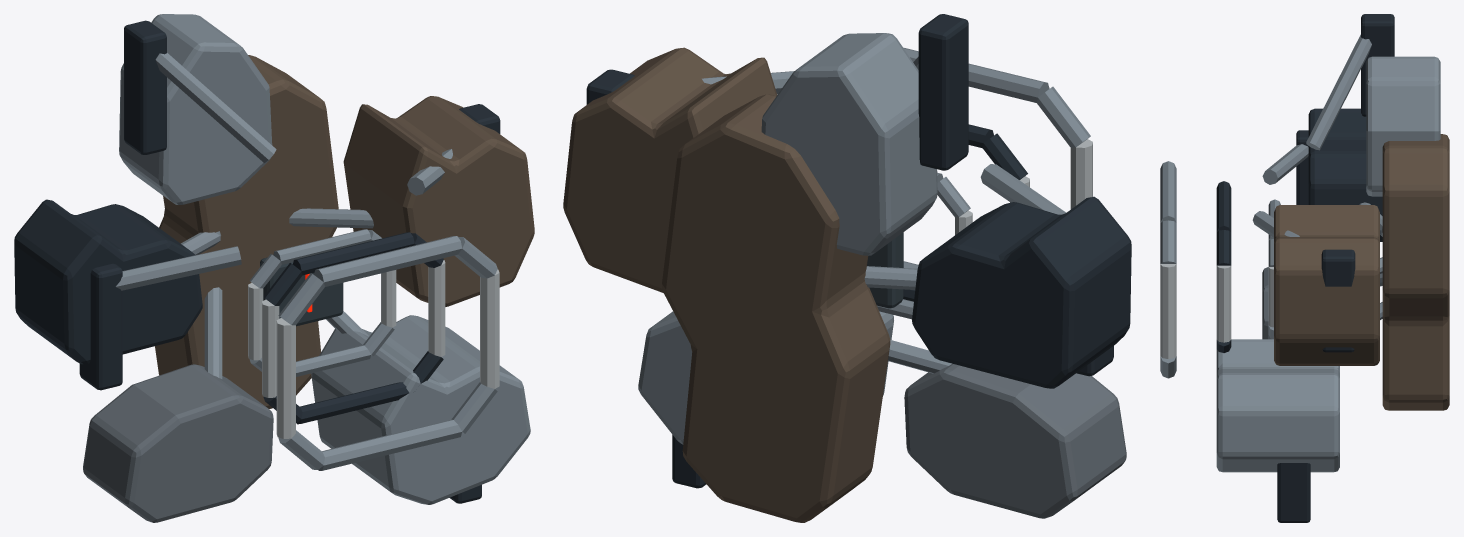
File: orbit-build-balanced.glb
3 renders of one model, left to right at view 1: azimuth 30°, elevation 25°; view 2: azimuth 150°, elevation 25°; view 3: azimuth 270°, elevation 25°, orthographic. The views are drawn at different scales.
Visible parts, largest first — view 1: Build_MID_District_EAST, Build_MID_Core, Build_MID_District_SOUTH_EAST, Build_MID_District_SOUTH_WEST, Build_MID_District_WEST, Build_MID_District_NORTH, Build_MID_Gantry_2, Build_MID_Gantry_0, Build_MID_ForgeTunnelFrameBeam_0_04, Build_MID_GantryBridge_2, Build_MID_ForgeTunnelFrameBeam_0_00, Build_MID_GantryBridge_0 (+20 smaller); view 2: Build_MID_Core, Build_MID_District_WEST, Build_MID_District_SOUTH_WEST, Build_MID_District_EAST, Build_MID_District_NORTH, Build_MID_Gantry_2, Build_MID_District_SOUTH_EAST, Build_MID_ForgeTunnelFrameBeam_0_04, Build_MID_GantryBridge_0, Build_MID_ForgeTunnelFrameBeam_0_05, Build_MID_ForgeDieBack, Build_MID_ForgeTunnelFrameBeam_0_06 (+6 smaller); view 3: Build_MID_Core, Build_MID_District_EAST, Build_MID_District_SOUTH_EAST, Build_MID_District_NORTH, Build_MID_District_WEST, Build_MID_Gantry_3, Build_MID_GantryBridge_2, Build_MID_Gantry_2, Build_MID_ForgeTunnelFrameBeam_0_02, Build_MID_Gantry_1, Build_MID_ForgeTunnelFrameBeam_1_02, Build_MID_ForgeTunnelFrameBeam_0_04 (+8 smaller).
Part boxes in pixels (<box>): Build_MID_District_EAST: <box>343,96,534,306</box>; Build_MID_Core: <box>155,55,338,409</box>; Build_MID_District_SOUTH_EAST: <box>311,315,530,504</box>; Build_MID_District_SOUTH_WEST: <box>83,364,273,522</box>; Build_MID_District_WEST: <box>14,199,202,364</box>; Build_MID_District_NORTH: <box>119,14,272,204</box>; Build_MID_Gantry_2: <box>124,20,166,154</box>; Build_MID_Gantry_0: <box>79,263,122,390</box>; Build_MID_ForgeTunnelFrameBeam_0_04: <box>314,236,462,286</box>; Build_MID_GantryBridge_2: <box>155,53,276,162</box>; Build_MID_ForgeTunnelFrameBeam_0_00: <box>318,419,461,470</box>; Build_MID_GantryBridge_0: <box>116,246,241,290</box>; Build_MID_Core: <box>662,94,890,522</box>; Build_MID_District_WEST: <box>912,196,1131,388</box>; Build_MID_District_SOUTH_WEST: <box>904,363,1126,518</box>; Build_MID_District_EAST: <box>563,47,777,292</box>; Build_MID_District_NORTH: <box>761,33,937,255</box>; Build_MID_Gantry_2: <box>918,14,968,170</box>; Build_MID_District_SOUTH_EAST: <box>638,311,893,444</box>; Build_MID_ForgeTunnelFrameBeam_0_04: <box>903,47,1049,102</box>; Build_MID_GantryBridge_0: <box>980,164,1066,214</box>; Build_MID_ForgeTunnelFrameBeam_0_05: <box>1037,86,1090,147</box>; Build_MID_ForgeDieBack: <box>867,232,903,308</box>; Build_MID_ForgeTunnelFrameBeam_0_06: <box>1070,139,1092,209</box>; Build_MID_Core: <box>1382,134,1449,410</box>; Build_MID_District_EAST: <box>1274,205,1379,365</box>; Build_MID_District_SOUTH_EAST: <box>1216,339,1339,472</box>; Build_MID_District_NORTH: <box>1366,56,1440,196</box>; Build_MID_District_WEST: <box>1308,108,1382,241</box>; Build_MID_Gantry_3: <box>1277,463,1310,522</box>; Build_MID_GantryBridge_2: <box>1306,34,1371,150</box>; Build_MID_Gantry_2: <box>1361,14,1394,116</box>; Build_MID_ForgeTunnelFrameBeam_0_02: <box>1160,264,1176,358</box>; Build_MID_Gantry_1: <box>1321,249,1355,352</box>; Build_MID_ForgeTunnelFrameBeam_1_02: <box>1216,265,1231,342</box>; Build_MID_ForgeTunnelFrameBeam_0_04: <box>1160,161,1176,222</box>.
Size of the model in its own units: 7.24 by 7.59 by 5.
